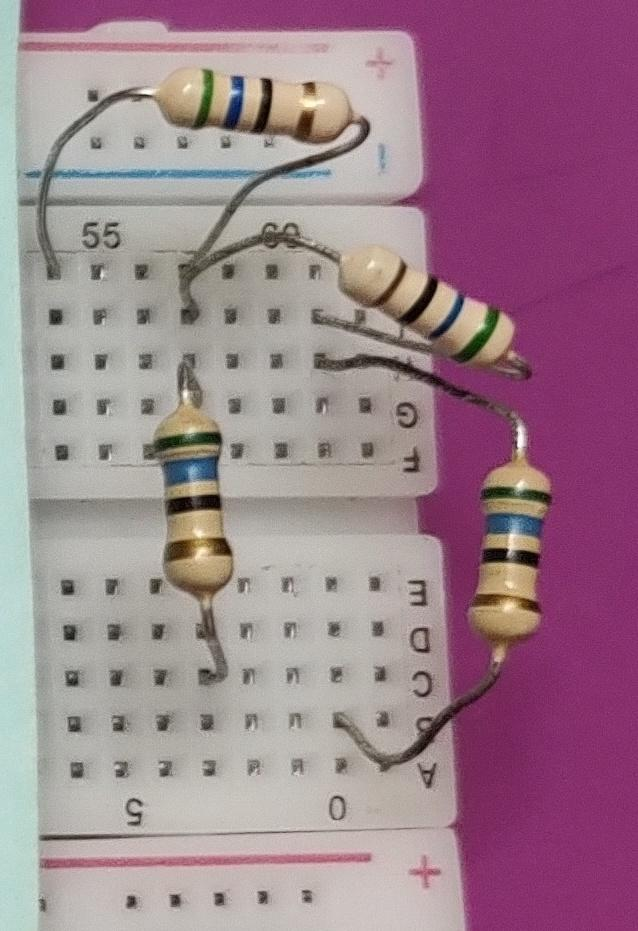resistor: (321, 231, 531, 378), (143, 395, 249, 614), (147, 55, 357, 161), (463, 449, 554, 659)
